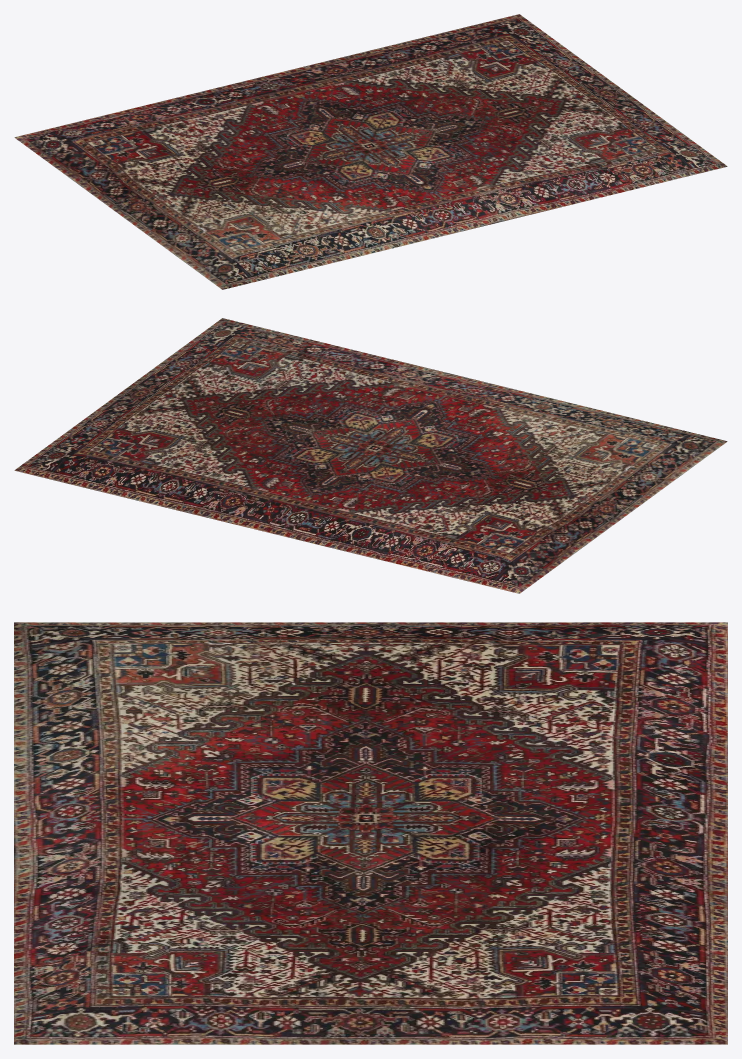
Rendered from KM_VOB_CARPET_02.glb.
3 renders of one model, top to bottom at view 1: azimuth 30°, elevation 25°; view 2: azimuth 150°, elevation 25°; view 3: azimuth 270°, elevation 25°, orthographic. The views are drawn at different scales.
Parts seen in each view (by area): view 1: Mesh; view 2: Mesh; view 3: Mesh.
Part boxes in pixels (x1,y1,x2,y2): Mesh: [14, 14, 727, 289]; Mesh: [14, 318, 727, 593]; Mesh: [14, 622, 727, 1044].
Size of the model in its own units: 3.5 by 0.05 by 2.5.
Materials: 1 (1 with a texture image).
